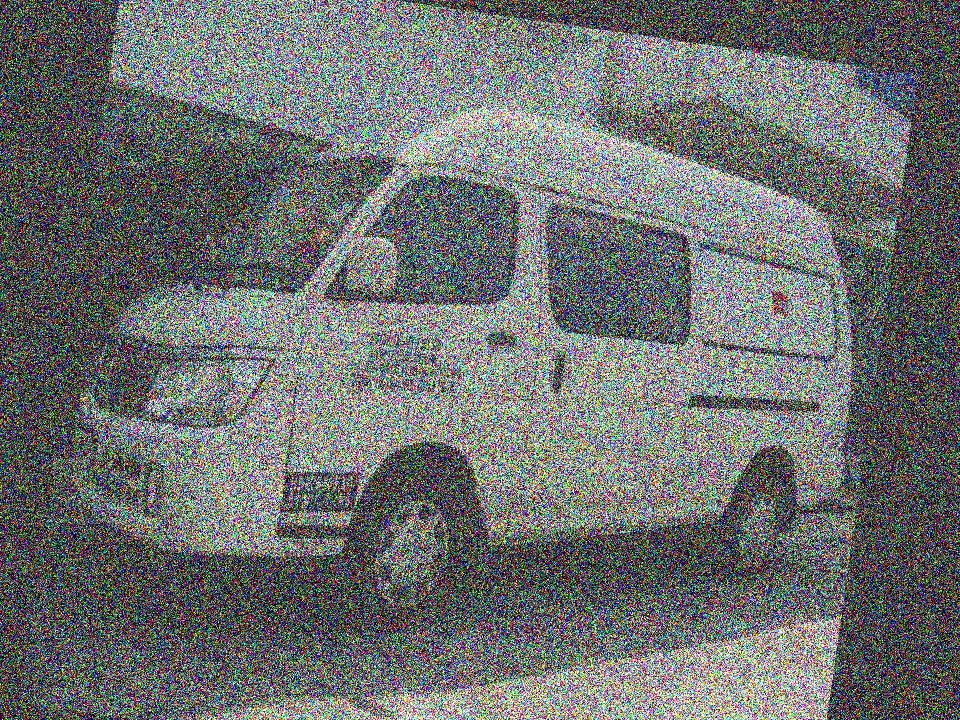van: (59, 55, 891, 668)
